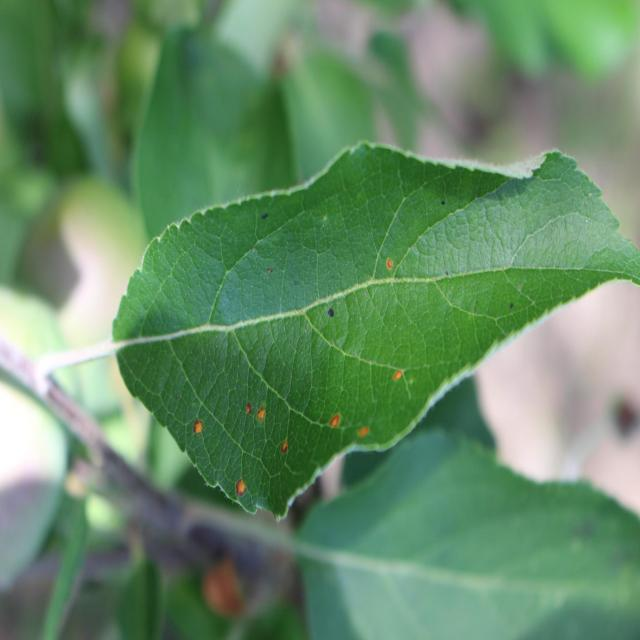Rust: (229, 391, 259, 428), (186, 400, 210, 445), (229, 470, 255, 505), (349, 420, 382, 444), (375, 255, 405, 281), (276, 437, 298, 472), (328, 404, 350, 439), (254, 400, 274, 432), (384, 364, 412, 385)
